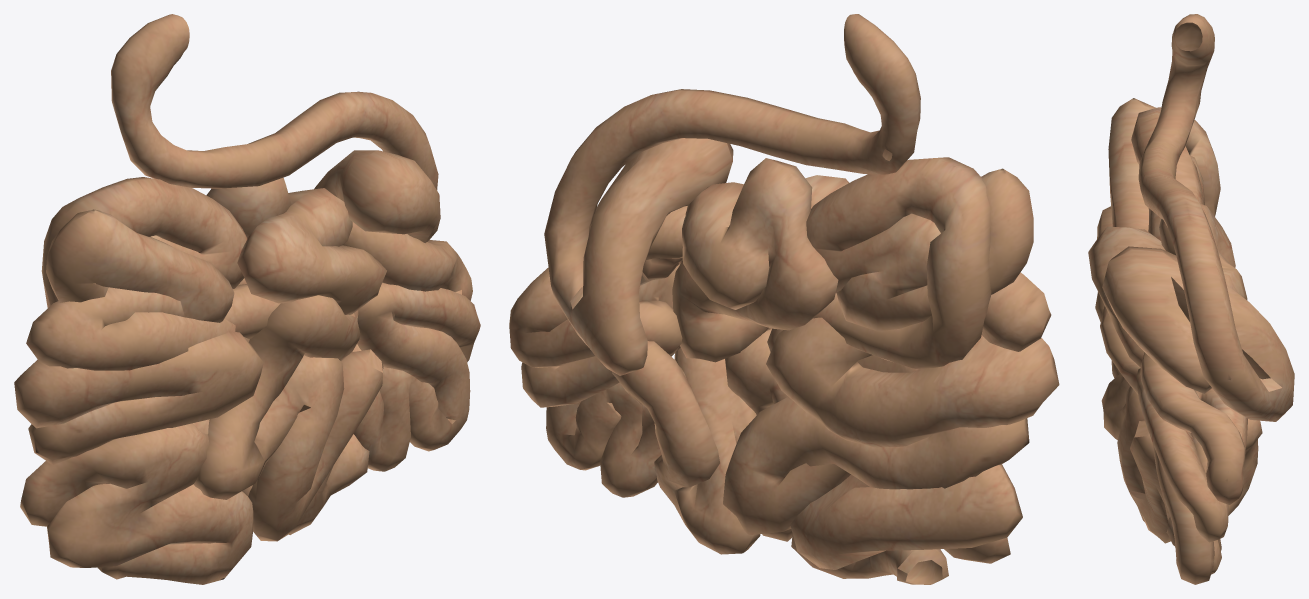
File: 男性_消化系统_小肠.fbx
3 renders of one model, left to right at view 1: azimuth 30°, elevation 25°; view 2: azimuth 150°, elevation 25°; view 3: azimuth 270°, elevation 25°, orthographic. The views are drawn at different scales.
Parts seen in each view (by area): view 1: 男性_消化系统_小肠; view 2: 男性_消化系统_小肠; view 3: 男性_消化系统_小肠.
Boxes of the visible parts, x1,y1,x2,y2 form: 男性_消化系统_小肠: [14, 14, 480, 584]; 男性_消化系统_小肠: [509, 14, 1059, 584]; 男性_消化系统_小肠: [1088, 14, 1294, 584].
Size of the model in its own units: 18.61 by 20.35 by 7.55.
